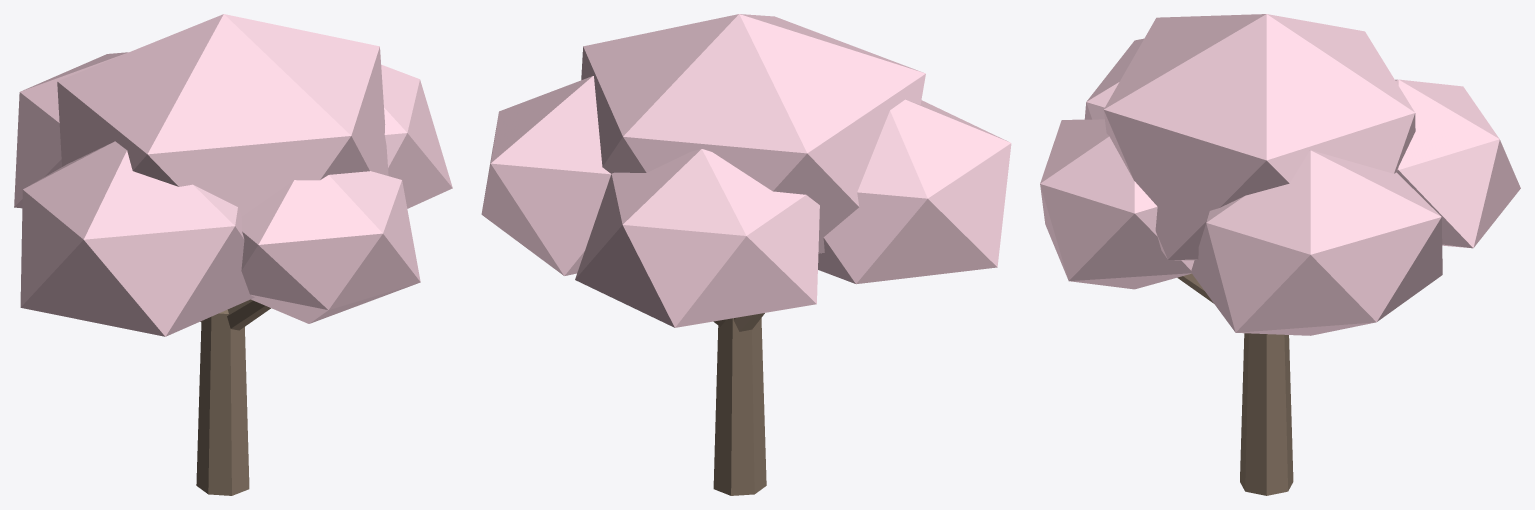
The model's file is sakura.glb.
3 views of the same model, side by side, from view 1: azimuth 30°, elevation 25°; view 2: azimuth 150°, elevation 25°; view 3: azimuth 270°, elevation 25° (orthographic).
Parts seen in each view (by area): view 1: sakura; view 2: sakura; view 3: sakura.
Part boxes in pixels (left/top/right/bottom): sakura: left=14, top=14, right=452, bottom=495; sakura: left=481, top=14, right=1011, bottom=495; sakura: left=1040, top=14, right=1520, bottom=495.
Size of the model in its own units: 4.71 by 4.72 by 4.37.
